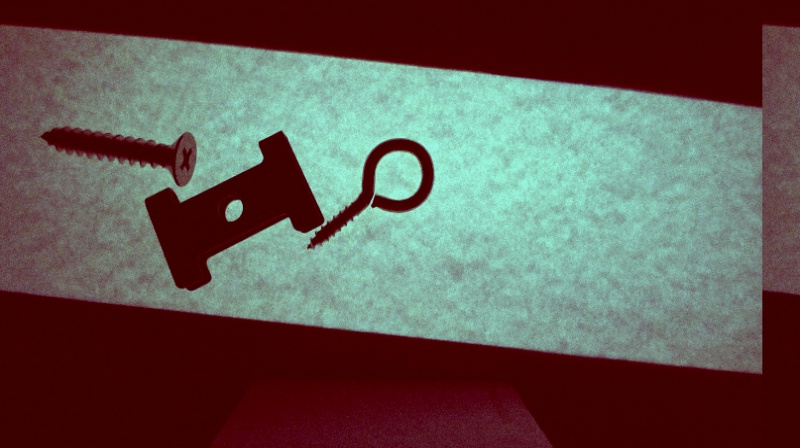O001: (303, 135, 437, 251)
O002: (145, 130, 322, 292)
S001: (39, 122, 198, 186)
